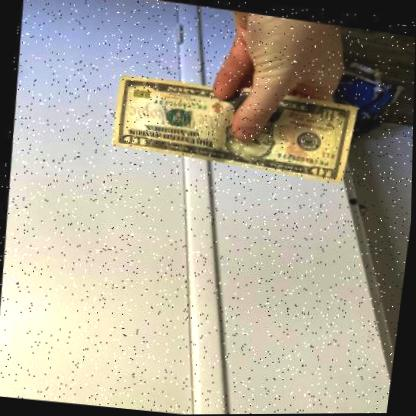dollar_front: (103, 67, 362, 183)
